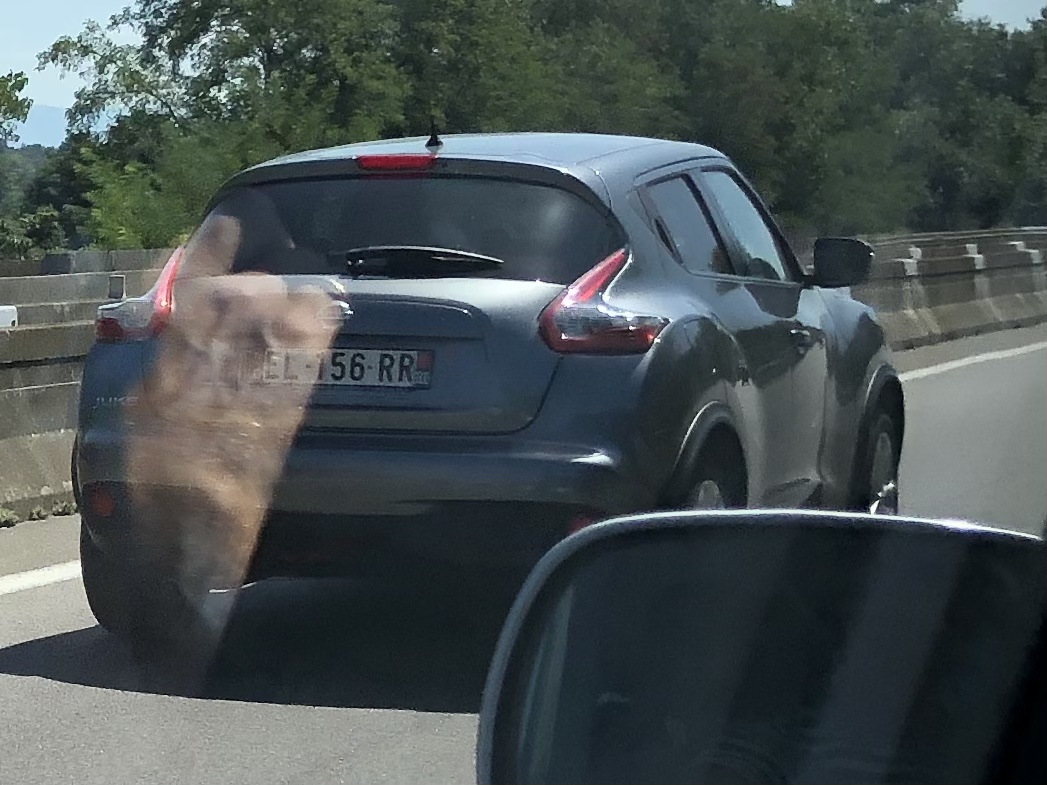licence plate: (237, 346, 439, 387)
